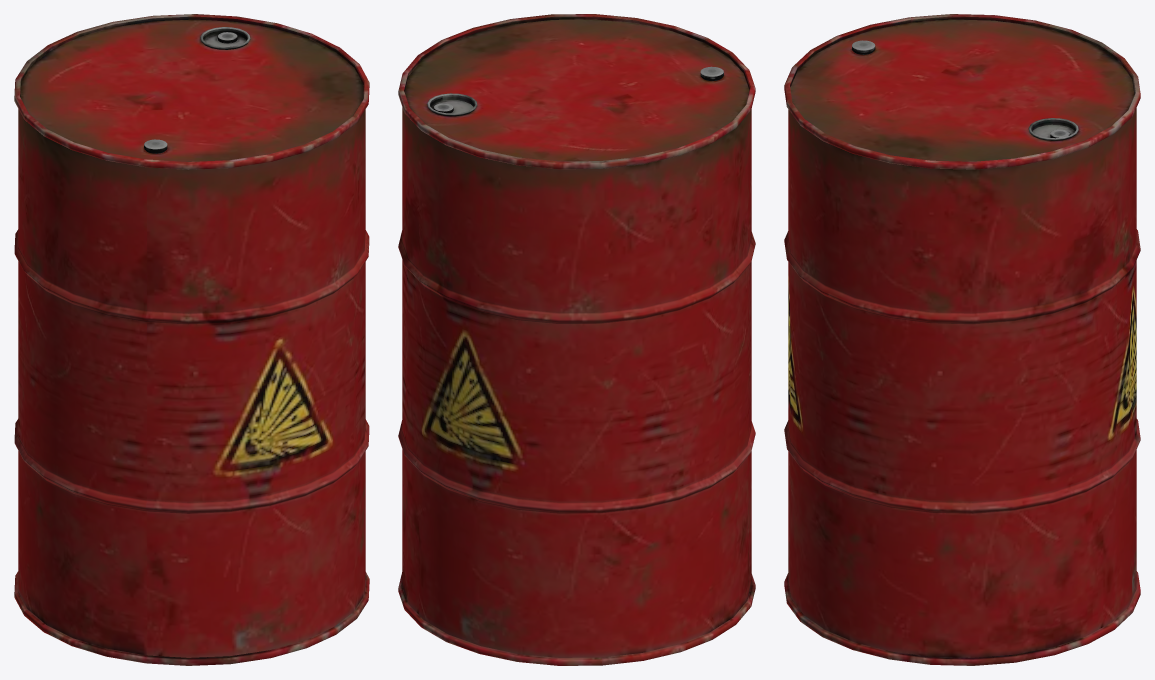
The model's file is Barrel_01.glb.
The picture shows the model from 3 angles, left to right: view 1: azimuth 30°, elevation 25°; view 2: azimuth 150°, elevation 25°; view 3: azimuth 270°, elevation 25°; orthographic projection.
Parts seen in each view (by area): view 1: Barrel_01; view 2: Barrel_01; view 3: Barrel_01.
Boxes of the visible parts, x1,y1,x2,y2 form: Barrel_01: (14,14,369,665); Barrel_01: (398,14,755,665); Barrel_01: (784,14,1140,665).
Bounding box in the file's own units: 0.5631 × 0.88 × 0.5631.
Materials: 1 (1 with a texture image).
